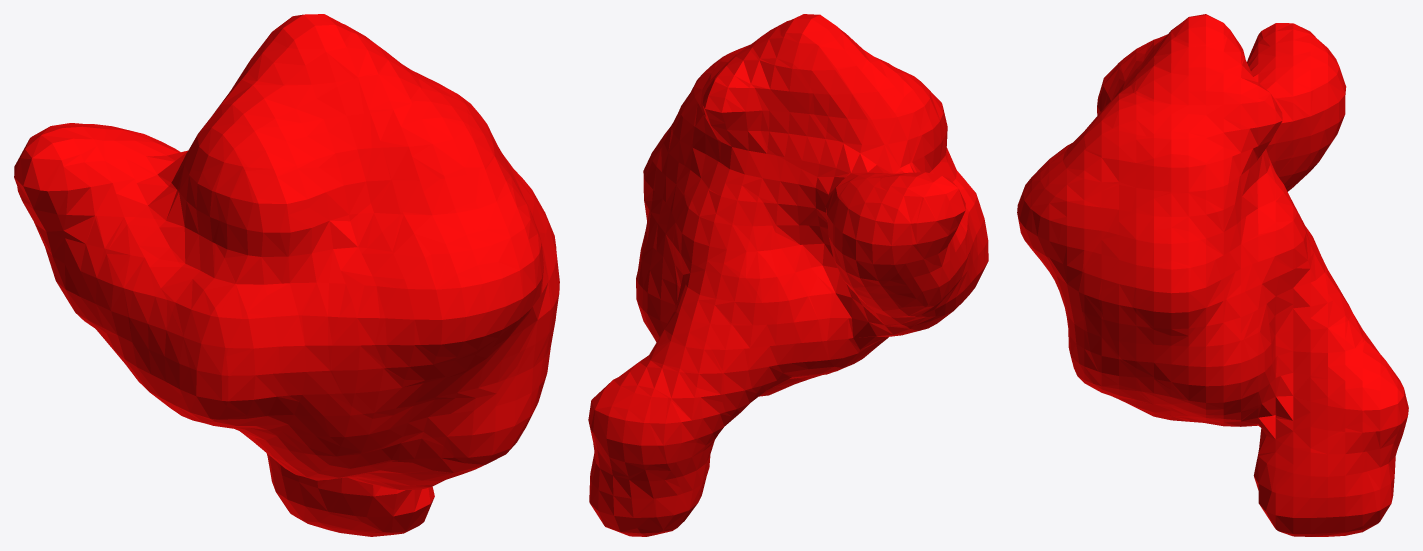
File: yidB_coarse.dae
The picture shows the model from 3 angles, left to right: view 1: azimuth 30°, elevation 25°; view 2: azimuth 150°, elevation 25°; view 3: azimuth 270°, elevation 25°; orthographic projection. The views are drawn at different scales.
Visible parts, largest first — view 1: yidB; view 2: yidB; view 3: yidB.
Part boxes in pixels (box(x1,y1,x2,y2)): yidB: box(14, 14, 559, 536); yidB: box(588, 14, 988, 536); yidB: box(1017, 14, 1408, 536).
Bounding box in the file's own units: 43.03 × 54.16 × 41.07.
